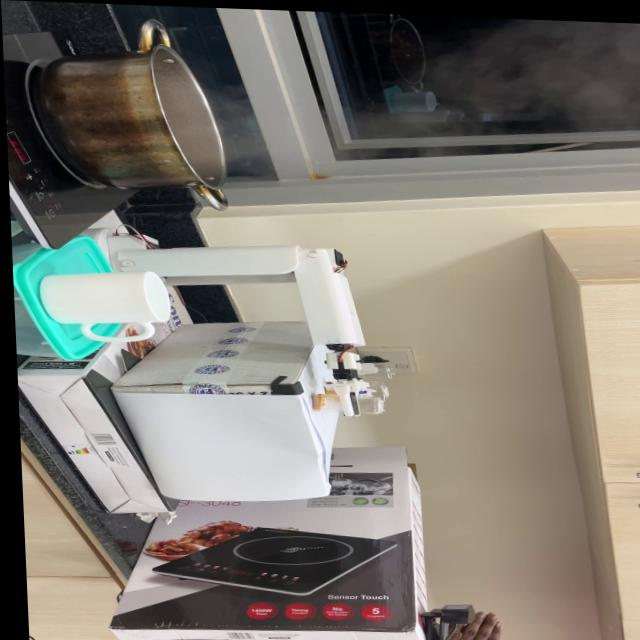cooking_pot: (37, 16, 230, 212)
garlic_powder: (307, 390, 334, 412)
